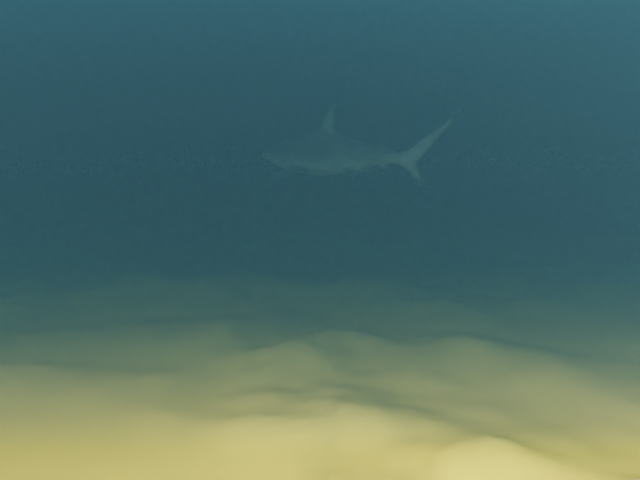Carribean Shark.001: (261, 104, 460, 188)
